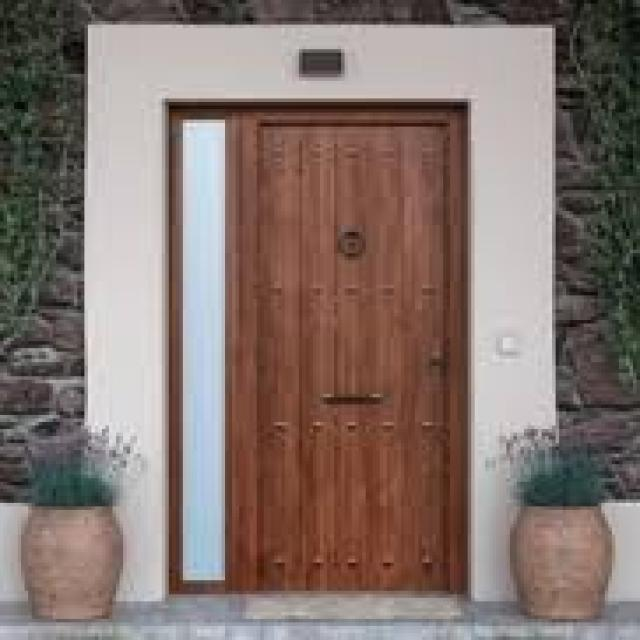door: (229, 109, 464, 594)
